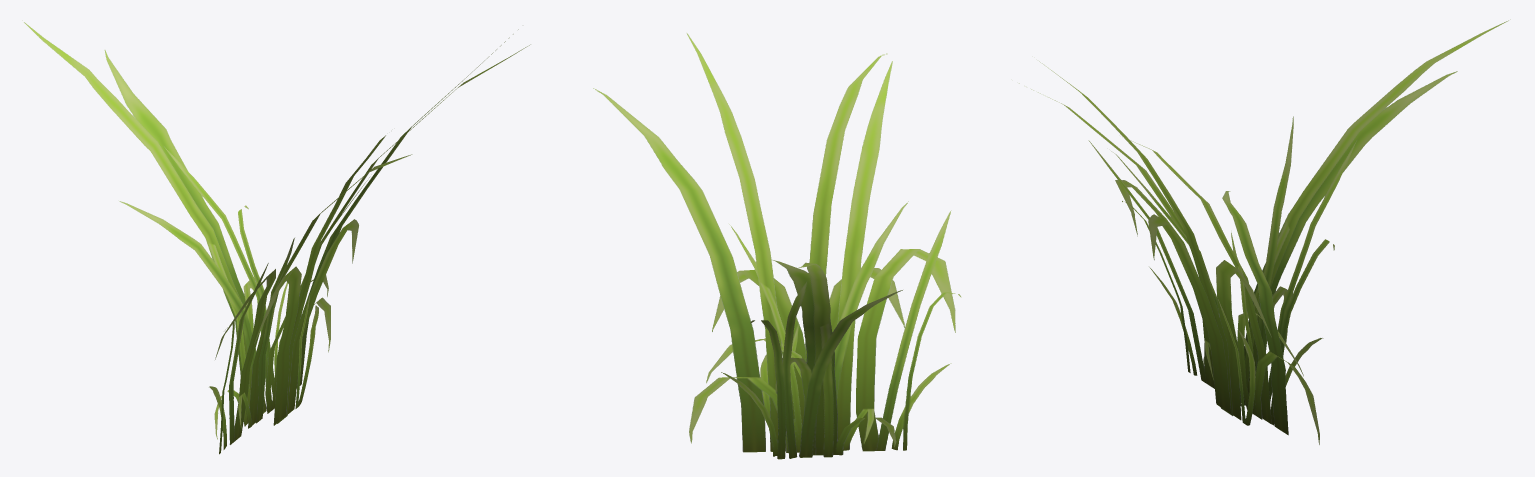
The model's file is Grass_3.fbx.
3 renders of one model, left to right at view 1: azimuth 30°, elevation 25°; view 2: azimuth 150°, elevation 25°; view 3: azimuth 270°, elevation 25°, orthographic. The views are drawn at different scales.
Visible parts, largest first — view 1: T_Low24; view 2: T_Low24; view 3: T_Low24.
Part boxes in pixels (<box>): T_Low24: <box>22,20,530,454</box>; T_Low24: <box>593,33,961,459</box>; T_Low24: <box>1019,19,1510,444</box>.
Size of the model in its own units: 40.07 by 37.48 by 45.17.
